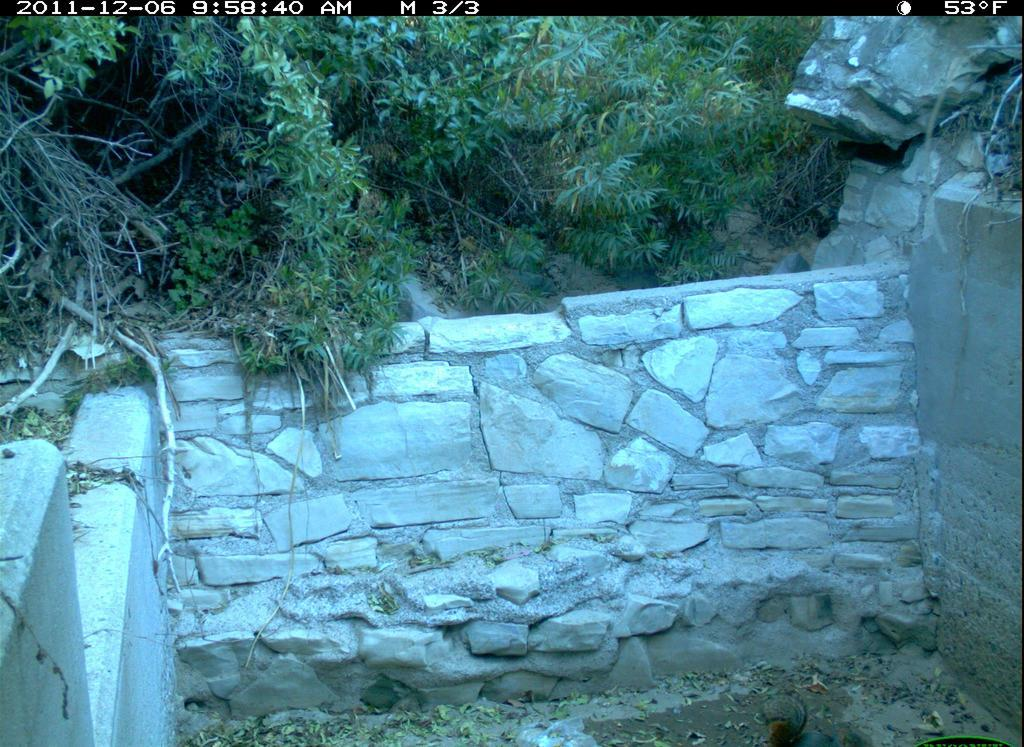squirrel: (747, 680, 820, 747)
